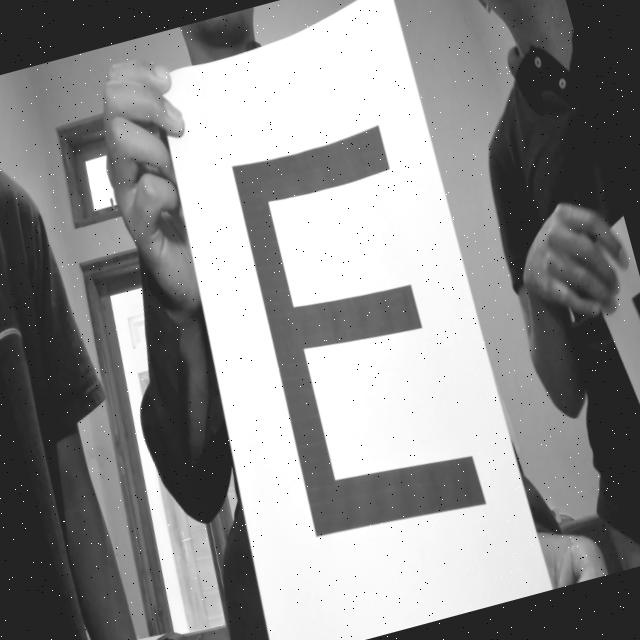e: (209, 110, 498, 568)
